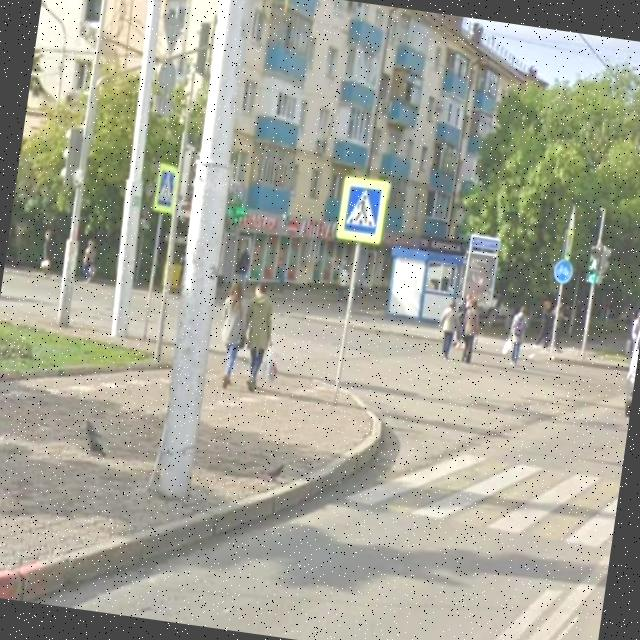Przejscie dla pieszych: (332, 172, 392, 249), (152, 160, 180, 214)
